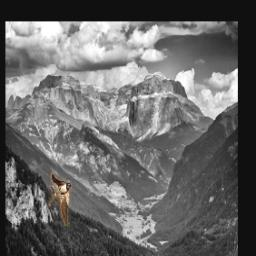Swallow: (43, 173, 73, 227)
